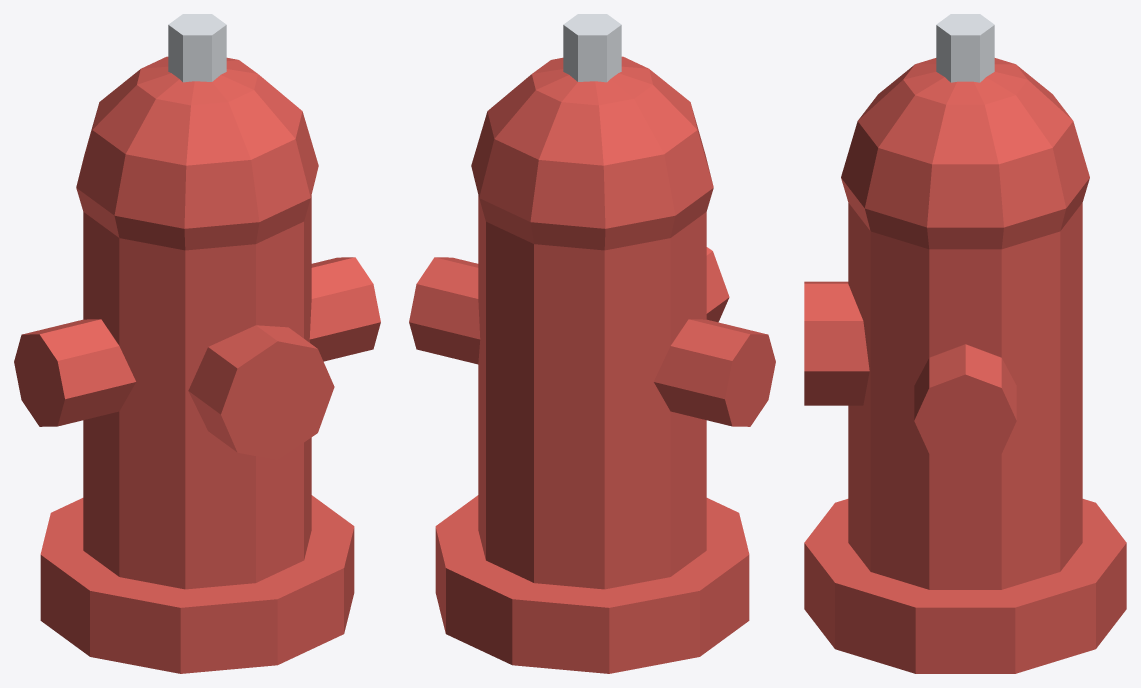
Rendered from hydrant.glb.
3 renders of one model, left to right at view 1: azimuth 30°, elevation 25°; view 2: azimuth 150°, elevation 25°; view 3: azimuth 270°, elevation 25°, orthographic.
Parts seen in each view (by area): view 1: hydrant_body; view 2: hydrant_body; view 3: hydrant_body.
Part boxes in pixels (bbox=[...]): hydrant_body: bbox=[14, 14, 380, 673]; hydrant_body: bbox=[409, 14, 775, 673]; hydrant_body: bbox=[804, 14, 1126, 673].
Bounding box in the file's own units: 0.05 × 0.088 × 0.044.
